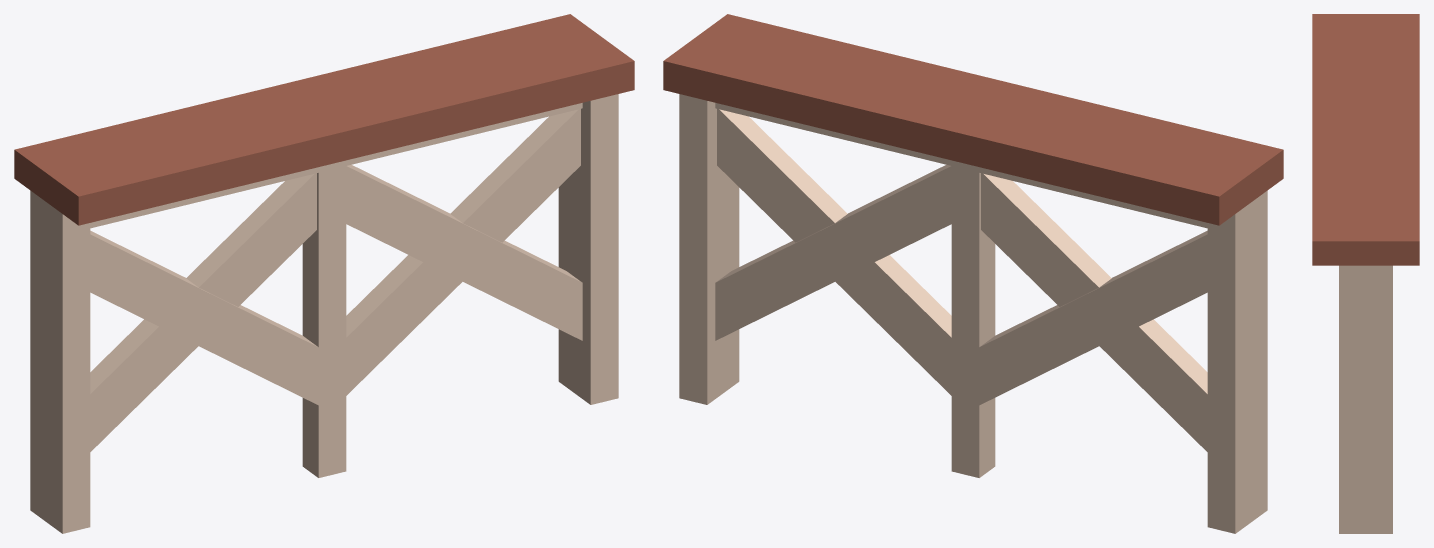
File: greek_fence_1.fbx
3 views of the same model, side by side, from view 1: azimuth 30°, elevation 25°; view 2: azimuth 150°, elevation 25°; view 3: azimuth 270°, elevation 25° (orthographic). The views are drawn at different scales.
Visible parts, largest first — view 1: Cube.001; view 2: Cube.001; view 3: Cube.001.
Boxes of the visible parts, left/top/right/bottom form: Cube.001: left=14, top=14, right=634, bottom=533; Cube.001: left=663, top=14, right=1283, bottom=533; Cube.001: left=1312, top=14, right=1419, bottom=533.
Size of the model in its own units: 200 by 125 by 40.
